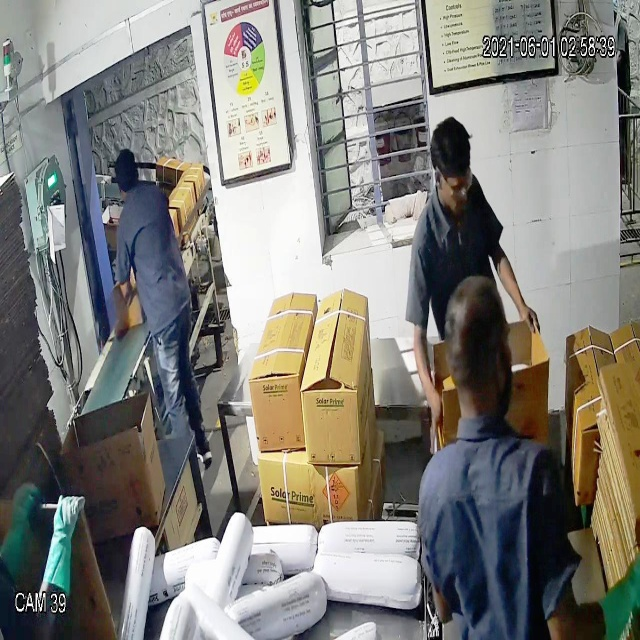Sin_gafas: (433, 164, 478, 204)
